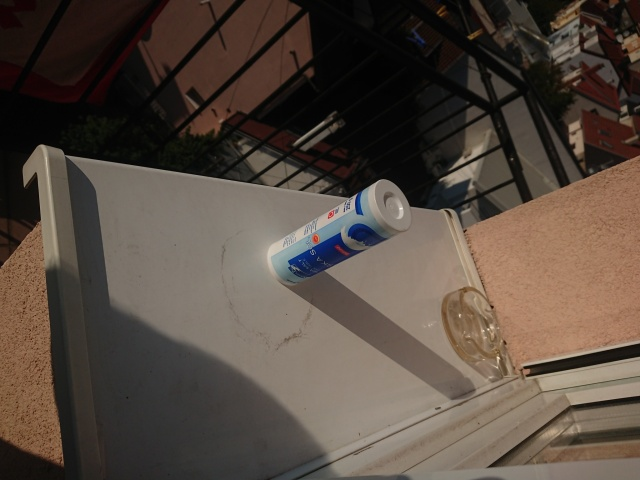Solana Pag Fine Sea Salt 250g: (265, 177, 415, 288)
